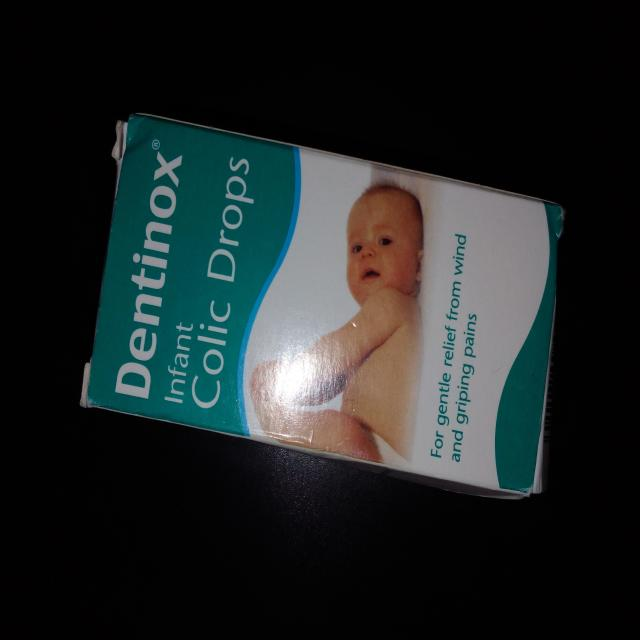Medicine: (75, 104, 566, 504)
